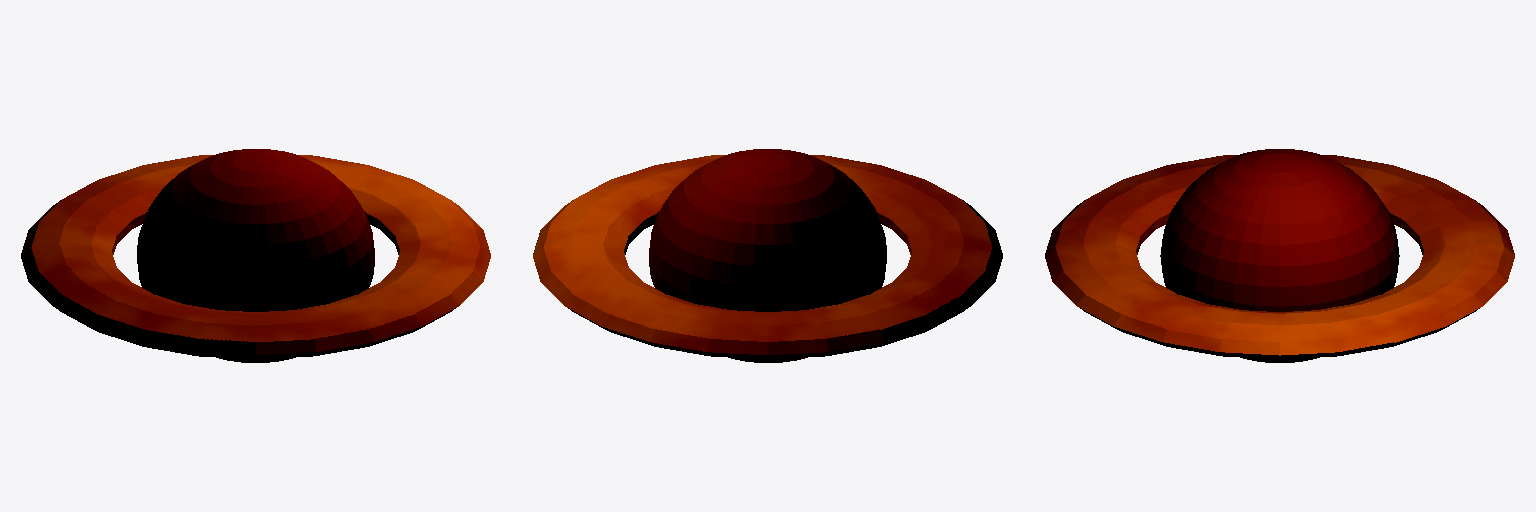
The picture shows the model from 3 angles: view 1: azimuth 30°, elevation 25°; view 2: azimuth 150°, elevation 25°; view 3: azimuth 270°, elevation 25°; orthographic projection.
Visible parts, largest first — view 1: Sphere; view 2: Sphere; view 3: Sphere.
Boxes of the visible parts, x1,y1,x2,y2 form: Sphere: [21, 149, 490, 362]; Sphere: [533, 149, 1002, 362]; Sphere: [1045, 149, 1514, 362].
Size of the model in its own units: 4.6 by 2.05 by 4.6.
Materials: 2 (1 with a texture image).